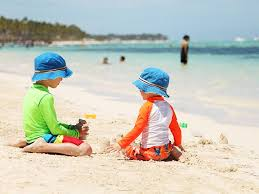child: (20, 53, 97, 161), (114, 66, 187, 167)
